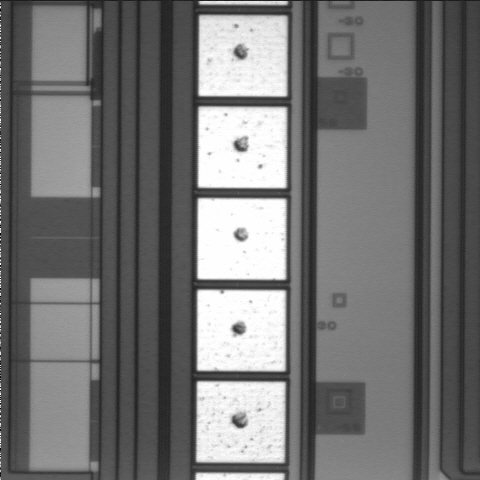pad: (197, 198, 286, 280), (196, 381, 285, 463), (199, 15, 287, 97), (198, 107, 287, 188), (197, 290, 286, 371)
